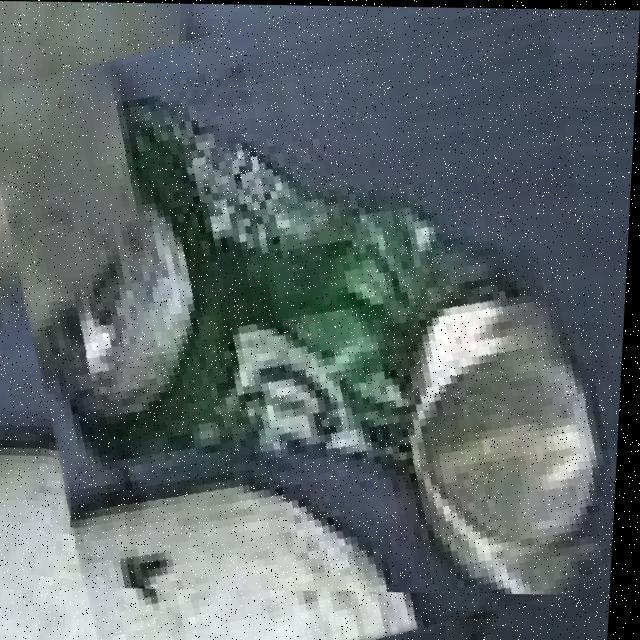litter: (66, 71, 622, 592)
